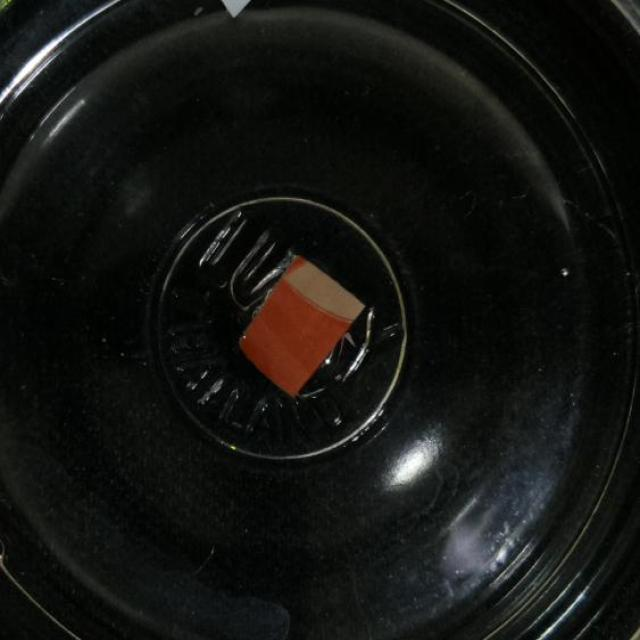fiber: (238, 250, 363, 397)
